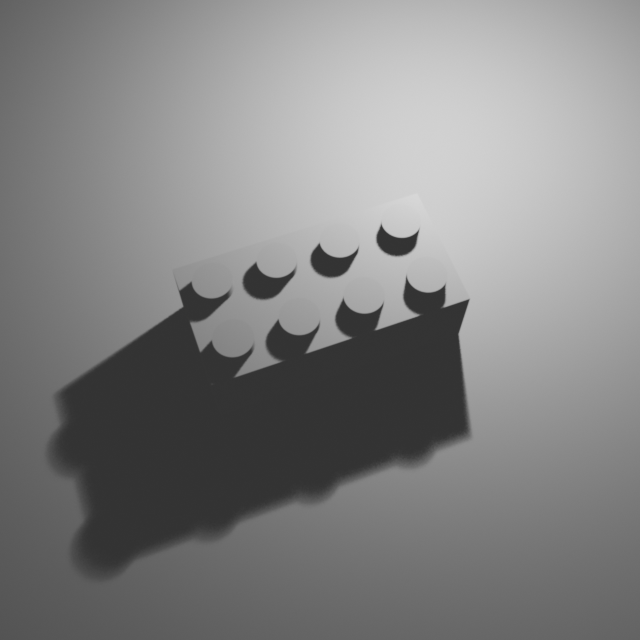lego_2x4: (170, 186, 472, 415)
